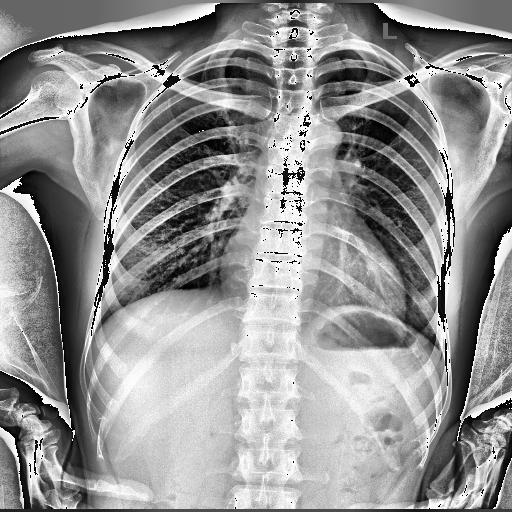3- Cardiomegaly: (222, 224, 404, 322), (216, 260, 406, 333), (221, 250, 408, 322)
